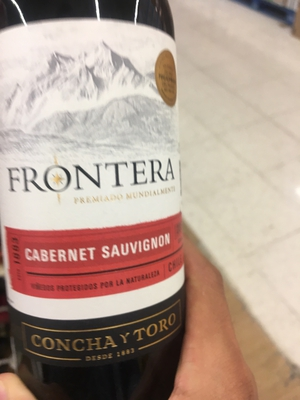frontera cabernet sauvignon: (1, 1, 186, 393)
